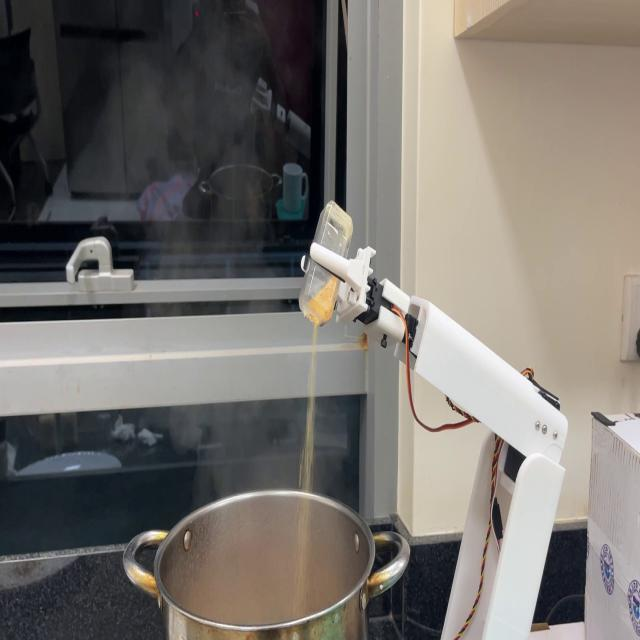cooking_pot: (122, 499, 414, 634)
garlic_powder: (308, 284, 335, 338)
